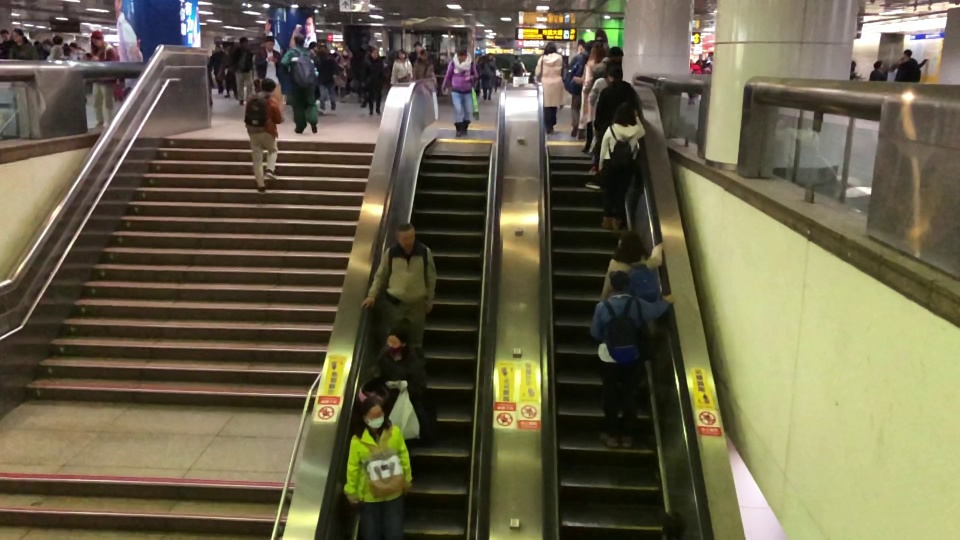person_head: (384, 314, 413, 357), (358, 394, 388, 431), (615, 230, 641, 256), (608, 268, 632, 295), (612, 100, 636, 126), (393, 220, 415, 248), (606, 63, 624, 83), (590, 42, 607, 62), (607, 45, 624, 63), (90, 31, 106, 47), (261, 77, 277, 93), (10, 27, 25, 42), (582, 40, 596, 55), (263, 35, 276, 51), (456, 46, 467, 63), (293, 32, 305, 47), (543, 42, 556, 55), (237, 34, 249, 48), (369, 46, 379, 59), (413, 39, 422, 53), (396, 49, 407, 60), (872, 59, 883, 70), (419, 49, 428, 61), (902, 48, 912, 58)
person_vbox: (586, 269, 676, 448), (360, 219, 436, 355), (342, 395, 413, 540), (368, 316, 426, 484), (584, 65, 640, 190), (598, 102, 646, 230), (599, 230, 664, 305), (245, 77, 284, 196), (280, 32, 318, 135), (589, 60, 620, 174), (442, 45, 480, 137), (577, 45, 608, 153), (534, 42, 569, 134), (87, 30, 119, 129), (563, 39, 591, 140), (255, 35, 286, 122), (232, 36, 254, 105), (361, 45, 382, 115), (590, 45, 624, 87), (893, 48, 928, 83), (411, 48, 438, 87), (7, 27, 38, 59), (389, 49, 413, 84), (868, 59, 888, 82)
